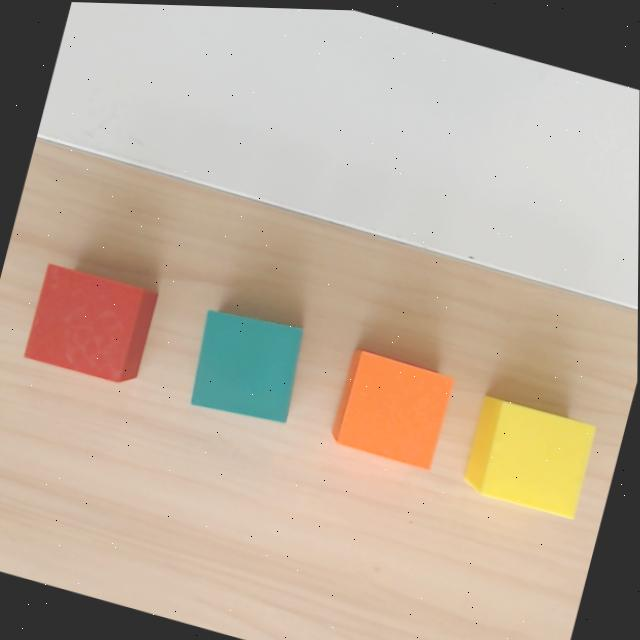Kubus-Hijau-505050: (189, 307, 303, 421)
Kubus-Jingga-505050: (328, 346, 454, 468)
Kubus-Kuning-505050: (460, 394, 596, 517)
Kubus-Merah-505050: (22, 262, 158, 385)
